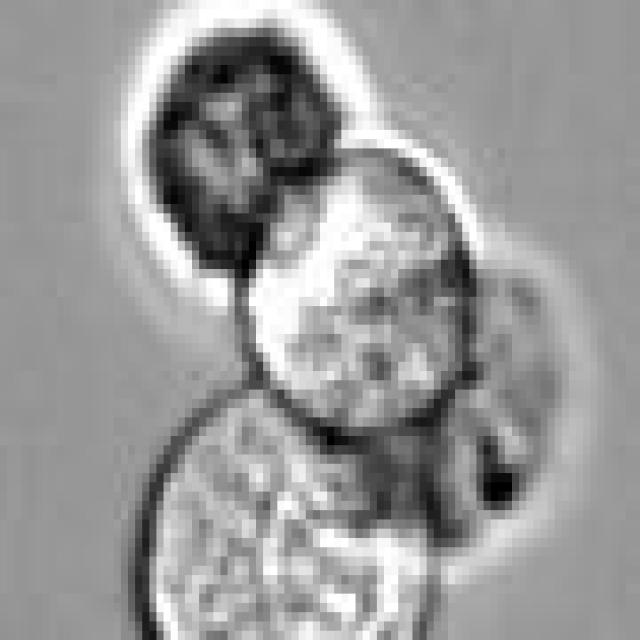Cancer Cell: (142, 380, 441, 640), (242, 148, 476, 446)
WBC: (150, 19, 348, 278)
